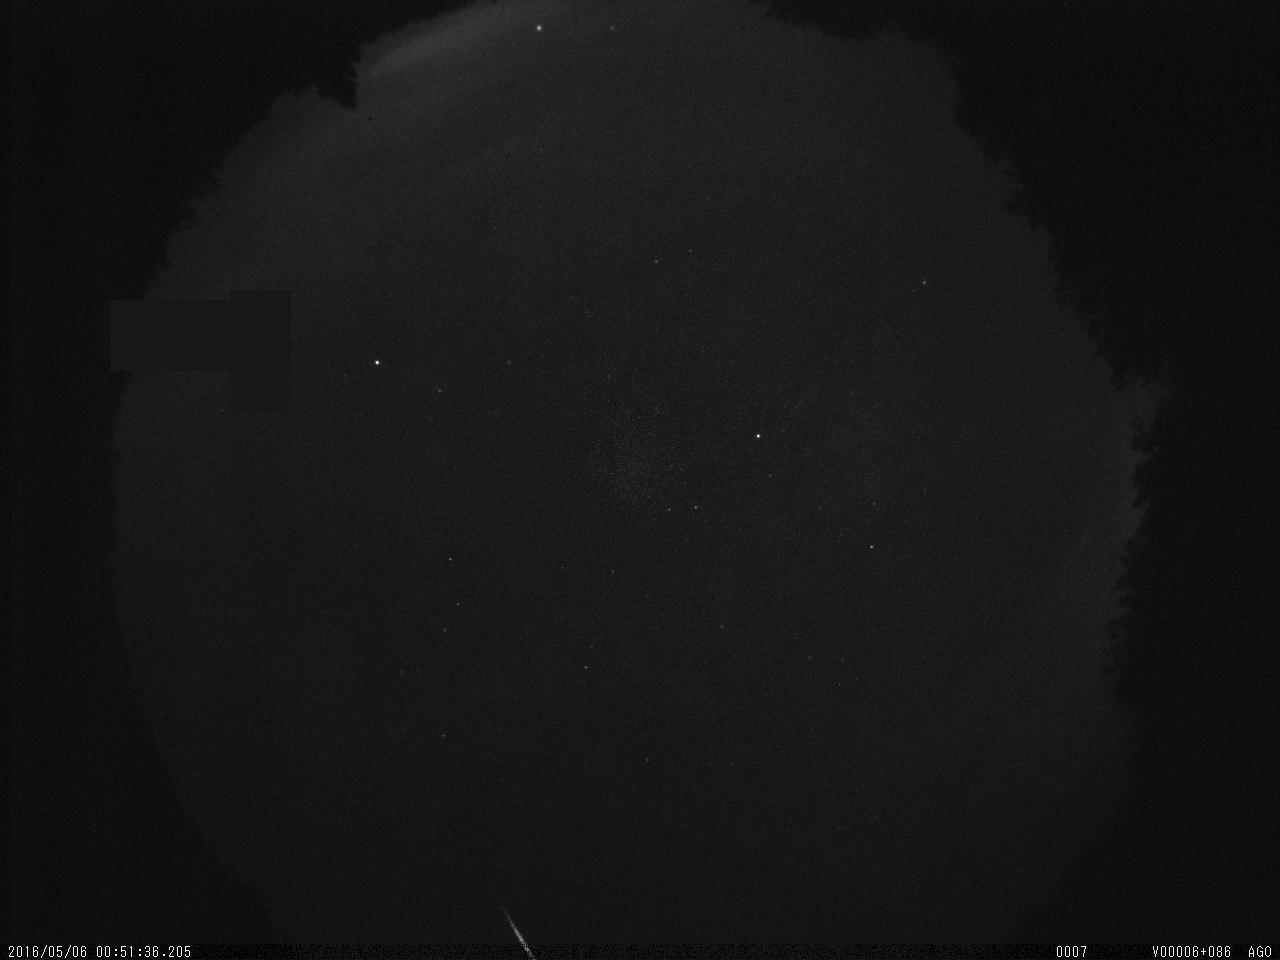meteor: (486, 895, 554, 960)
